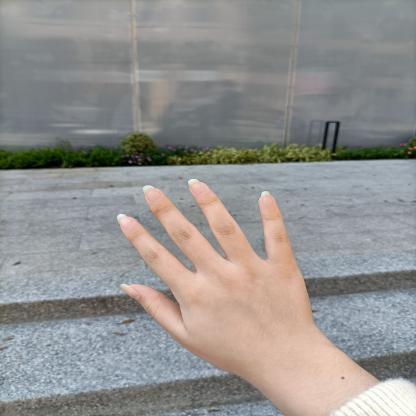bare_hand: (99, 166, 338, 386)
